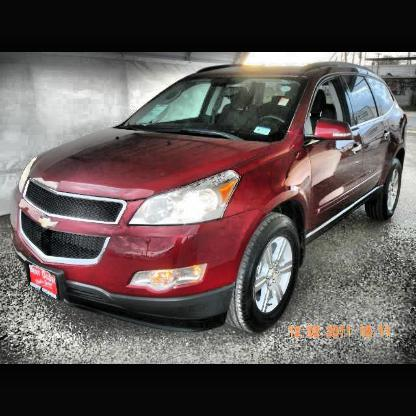Chevrolet Traverse SUV 2012: (11, 64, 414, 338)
